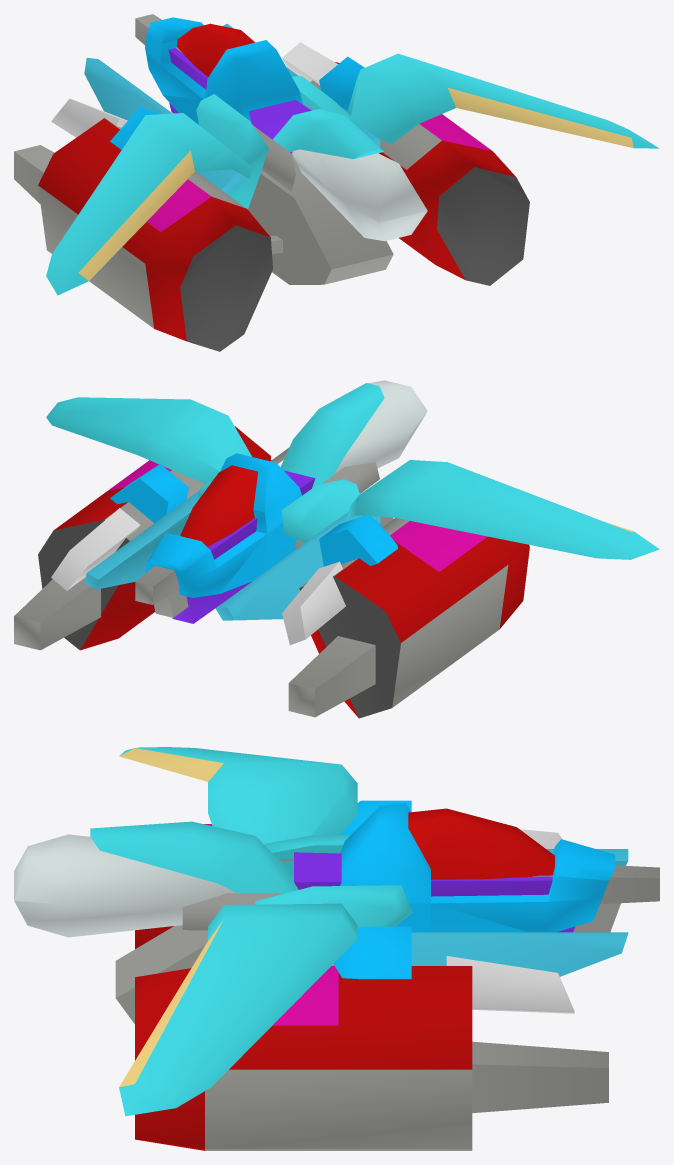
Rendered from ps2_save-icons_xiistag.glb.
The picture shows the model from 3 angles, top to bottom: view 1: azimuth 30°, elevation 25°; view 2: azimuth 150°, elevation 25°; view 3: azimuth 270°, elevation 25°; orthographic projection. The views are drawn at different scales.
Parts seen in each view (by area): view 1: xii_icon.ico; view 2: xii_icon.ico; view 3: xii_icon.ico.
Boxes of the visible parts, box(x1,y1,x2,y2) form: xii_icon.ico: box(14, 14, 659, 351); xii_icon.ico: box(14, 380, 659, 718); xii_icon.ico: box(14, 747, 659, 1150).
Bounding box in the file's own units: 3.75 × 1.2 × 2.8.
1 material, 1 textured.
